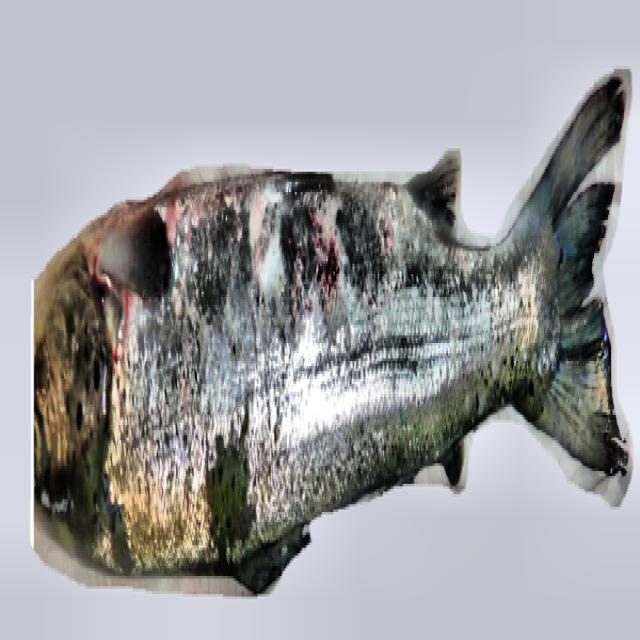mild_red: (107, 177, 559, 566)
